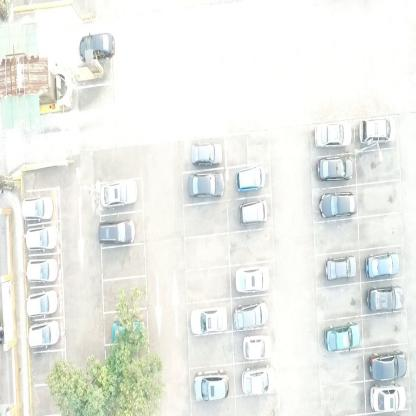car: (194, 368, 230, 402), (324, 320, 360, 354), (189, 304, 228, 335), (319, 190, 358, 221), (369, 382, 406, 414), (368, 350, 407, 380), (315, 154, 355, 183), (233, 299, 268, 331), (358, 116, 398, 144), (100, 178, 137, 208), (314, 120, 352, 149), (364, 250, 400, 280), (78, 31, 115, 60), (186, 171, 224, 199), (98, 217, 136, 245), (28, 318, 60, 350), (242, 365, 276, 395), (366, 286, 405, 312), (235, 265, 271, 292), (324, 253, 357, 282), (238, 197, 270, 226), (27, 289, 58, 318), (26, 256, 58, 284), (25, 224, 57, 252), (21, 195, 53, 222), (190, 140, 223, 166), (236, 164, 266, 192), (111, 319, 144, 344), (243, 335, 273, 361)
